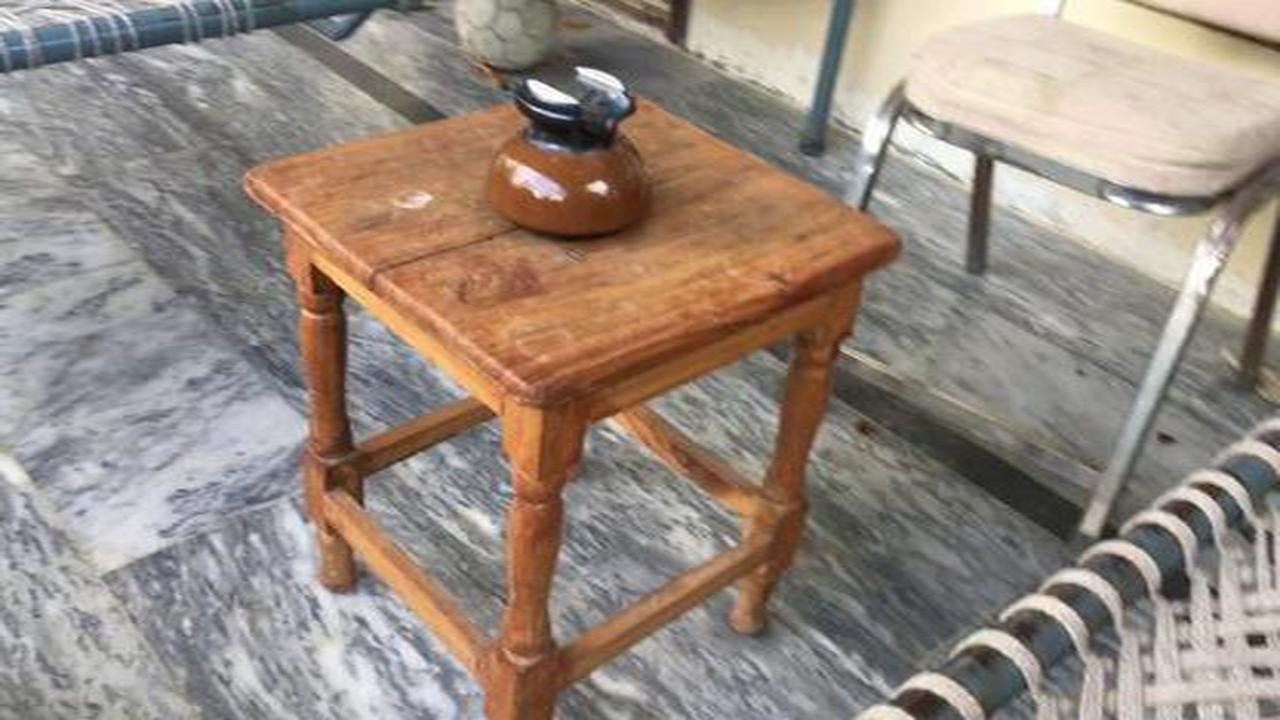insulator_pin: (465, 47, 668, 246)
